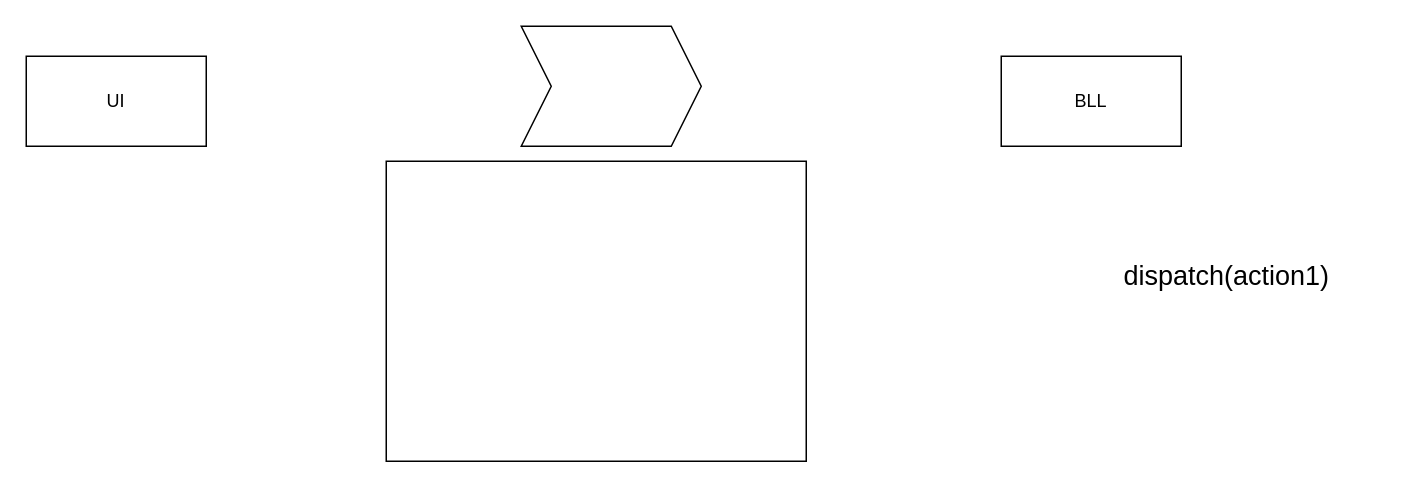
The diagram is 1403 pixels wide and 488 high, and some of its shapes have lost their labels. Each missing label, with the centre of its shape:
dispatch(function() { dispatch(action1) dispatch(action2) }): point (595, 310)
THUNK: point (610, 85)
